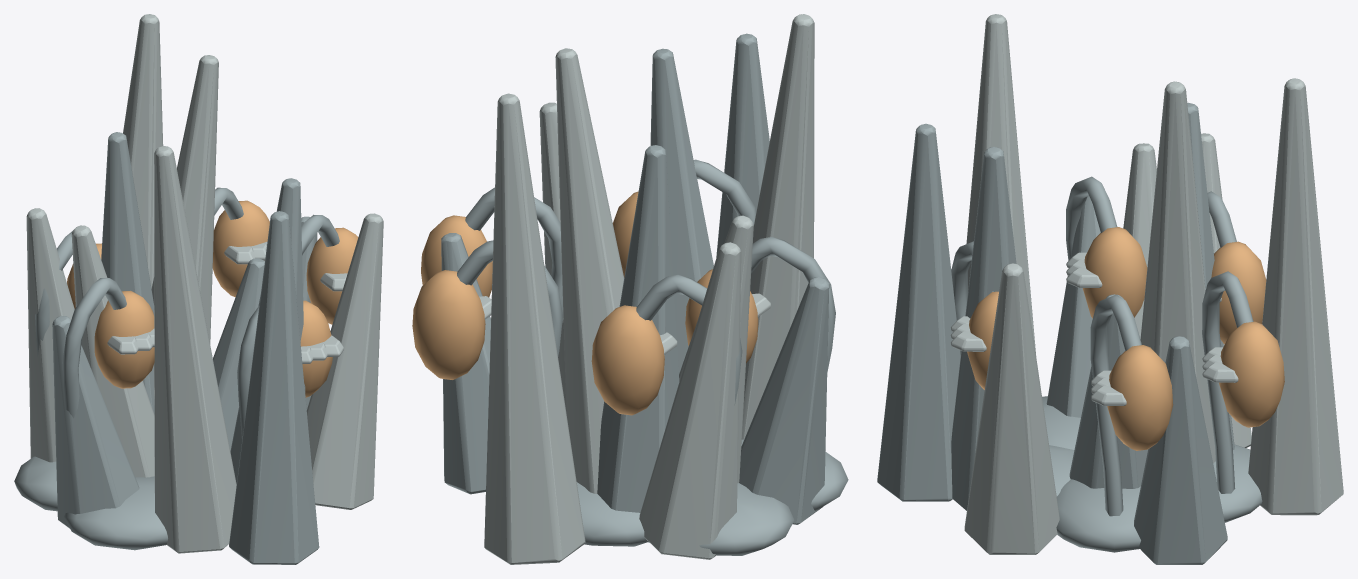
Rendered from bio_crystal_fan_18_far.glb.
The picture shows the model from 3 angles, left to right: view 1: azimuth 30°, elevation 25°; view 2: azimuth 150°, elevation 25°; view 3: azimuth 270°, elevation 25°; orthographic projection. The views are drawn at different scales.
Parts seen in each view (by area): view 1: Reflecting mineral prism.007, Reflecting mineral prism.002, Reflecting mineral prism.005, Reflecting mineral prism.004, Reflecting mineral prism.003, Reflecting mineral prism.001, Reflecting mineral prism.011, Reflecting mineral prism.009, Mineral substrate, Reflecting mineral prism.006, Pendant spore capsule.004, Reflecting mineral prism (+13 smaller); view 2: Reflecting mineral prism.011, Reflecting mineral prism.001, Reflecting mineral prism.003, Reflecting mineral prism.007, Reflecting mineral prism.004, Reflecting mineral prism.006, Reflecting mineral prism.010, Mineral substrate, Reflecting mineral prism.008, Pendant spore capsule.003, Pendant spore capsule.001, Reflecting mineral prism.002 (+10 smaller); view 3: Reflecting mineral prism.011, Reflecting mineral prism.002, Reflecting mineral prism.005, Reflecting mineral prism.003, Reflecting mineral prism.008, Reflecting mineral prism.010, Mineral substrate, Reflecting mineral prism.007, Reflecting mineral prism.004, Pendant spore capsule.003, Pendant spore capsule, Arched fruit stem.003 (+15 smaller).
Part boxes in pixels (x1,y1,x2,y2): Reflecting mineral prism.007: (154,146,236,553); Reflecting mineral prism.002: (229,211,319,564); Reflecting mineral prism.005: (306,213,383,509); Reflecting mineral prism.004: (52,316,139,528); Reflecting mineral prism.003: (151,55,218,404); Reflecting mineral prism.001: (26,208,74,462); Reflecting mineral prism.011: (123,14,163,288); Reflecting mineral prism.009: (71,225,154,477); Mineral substrate: (14,456,167,550); Reflecting mineral prism.006: (101,132,154,414); Pendant spore capsule.004: (94,290,154,388); Reflecting mineral prism: (213,258,264,450); Reflecting mineral prism.011: (484,93,585,564); Reflecting mineral prism.001: (639,242,741,559); Reflecting mineral prism.003: (555,48,624,493); Reflecting mineral prism.007: (741,14,814,439); Reflecting mineral prism.004: (739,277,829,524); Reflecting mineral prism.006: (597,145,679,512); Reflecting mineral prism.010: (650,48,713,373); Mineral substrate: (576,439,848,555); Reflecting mineral prism.008: (441,233,490,494); Pendant spore capsule.003: (412,270,485,379); Pendant spore capsule.001: (591,305,664,415); Reflecting mineral prism.002: (716,33,769,257); Reflecting mineral prism.011: (1248,78,1343,515); Reflecting mineral prism.002: (877,123,960,501); Reflecting mineral prism.005: (964,263,1059,554); Reflecting mineral prism.003: (1140,81,1215,463); Reflecting mineral prism.008: (1134,336,1227,564); Reflecting mineral prism.010: (951,147,1016,510); Mineral substrate: (1042,396,1262,552); Reflecting mineral prism.007: (966,14,1035,353); Reflecting mineral prism.004: (1046,196,1100,417); Pendant spore capsule.003: (1219,321,1284,427); Pendant spore capsule: (1107,345,1173,450); Arched fruit stem.003: (1202,271,1253,493).
Bounding box in the file's own units: 1.64 × 1.91 × 1.82.
